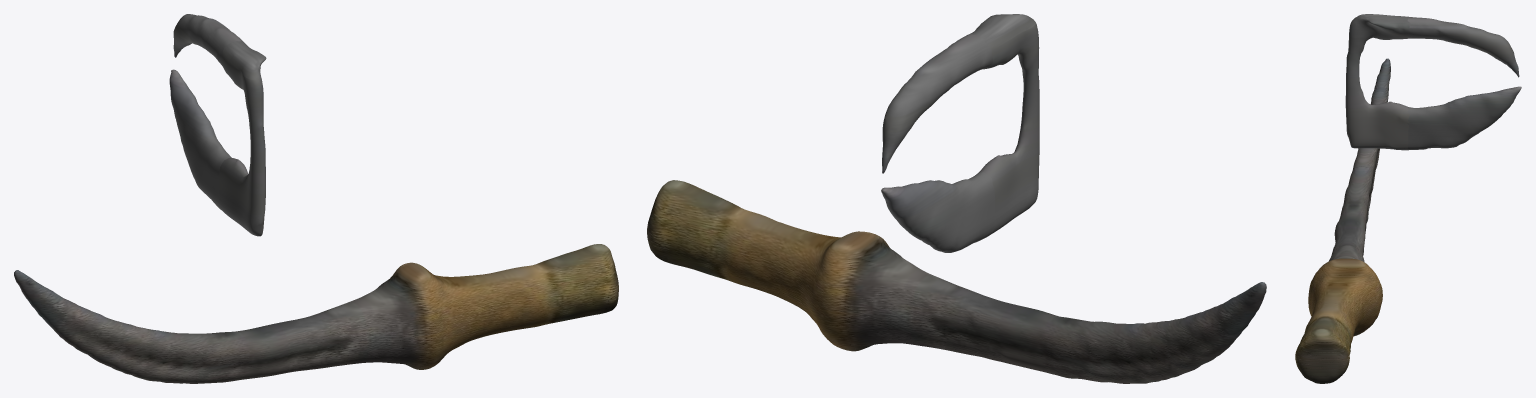
The model's file is kfl-2181.glb.
3 views of the same model, side by side, from view 1: azimuth 30°, elevation 25°; view 2: azimuth 150°, elevation 25°; view 3: azimuth 270°, elevation 25° (orthographic). The views are drawn at different scales.
Visible parts, largest first — view 1: geometry_0; view 2: geometry_0; view 3: geometry_0.
Boxes of the visible parts, x1,y1,x2,y2 form: geometry_0: [14, 14, 618, 383]; geometry_0: [647, 14, 1266, 383]; geometry_0: [1295, 14, 1521, 383].
Bounding box in the file's own units: 0.9899 × 0.5591 × 0.4366.
Materials: 1 (1 with a texture image).
